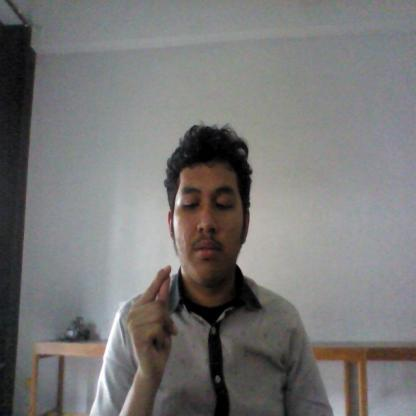R: (119, 260, 193, 388)
